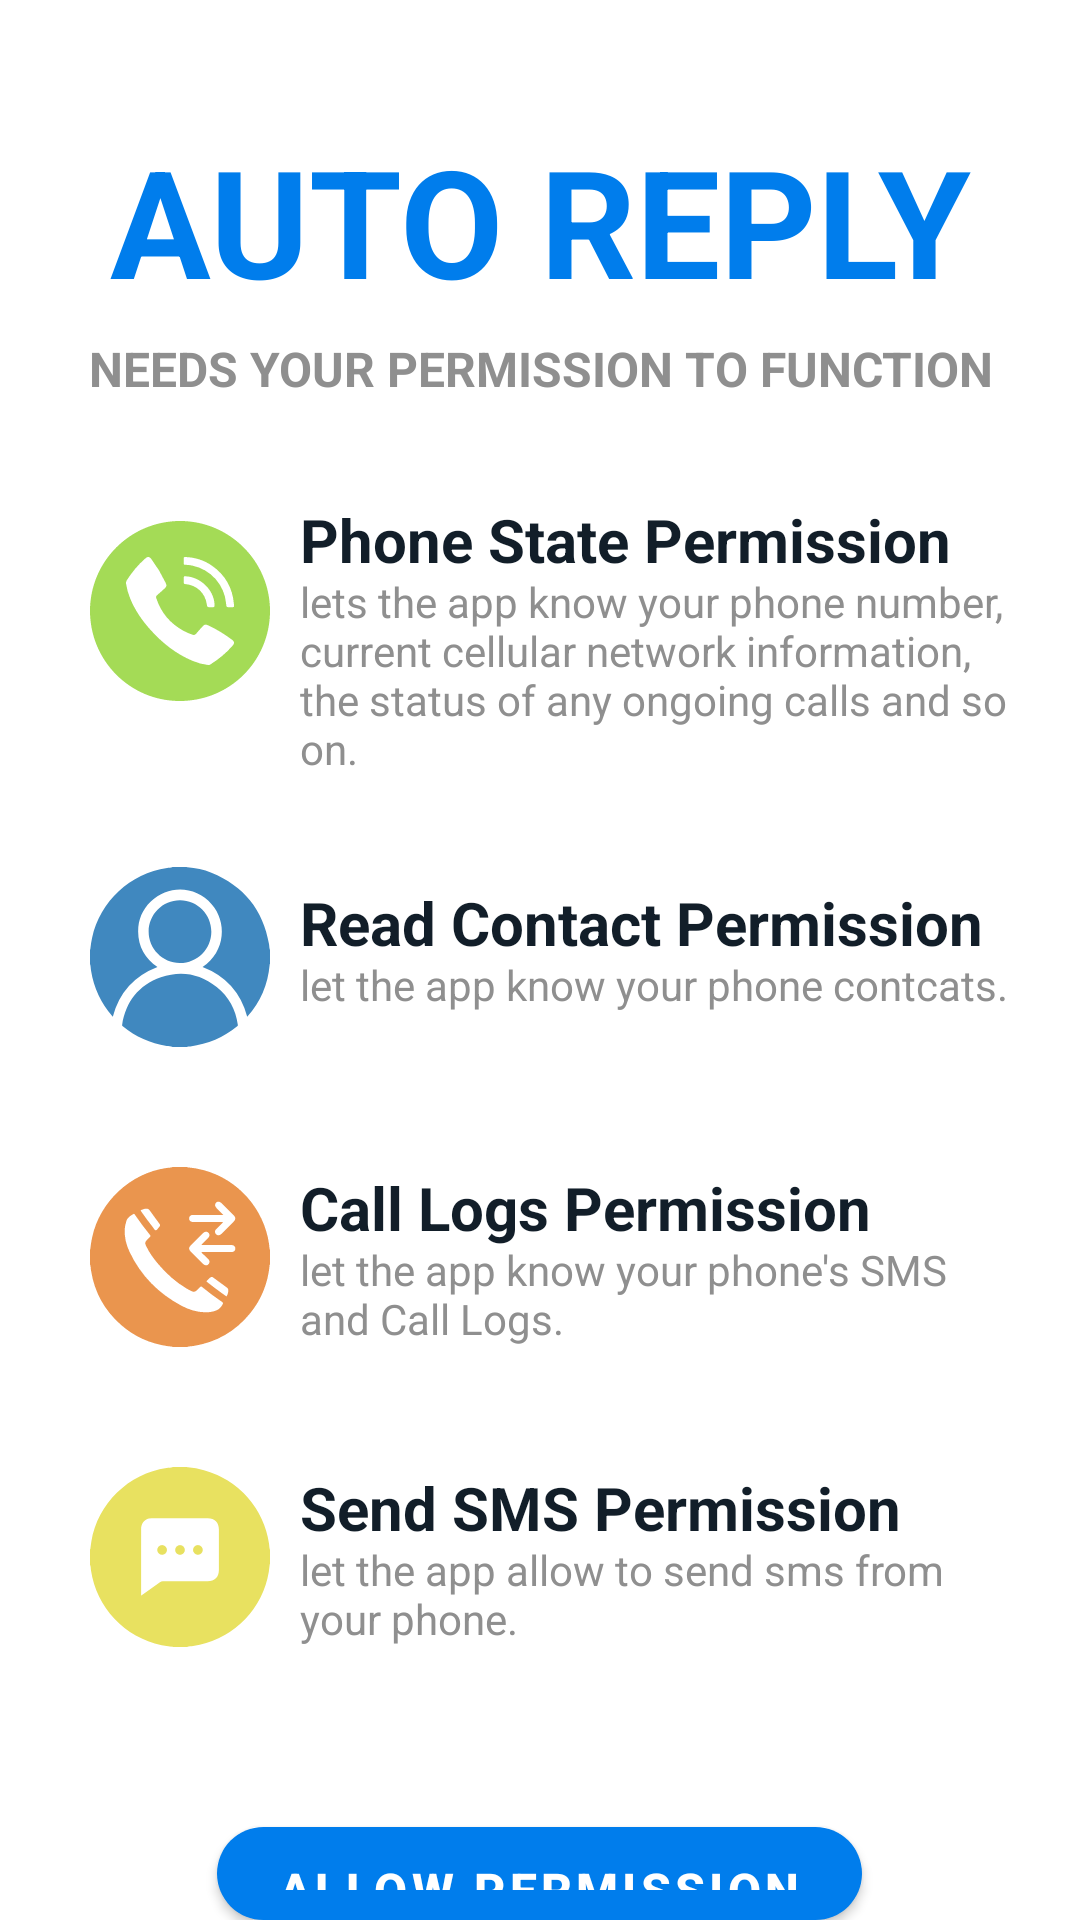

Icons on this 1080px×1920px Android screen, each with its box as bbox=[x1, y1, x2, y2]:
read sms: bbox=[90, 1467, 270, 1647]
